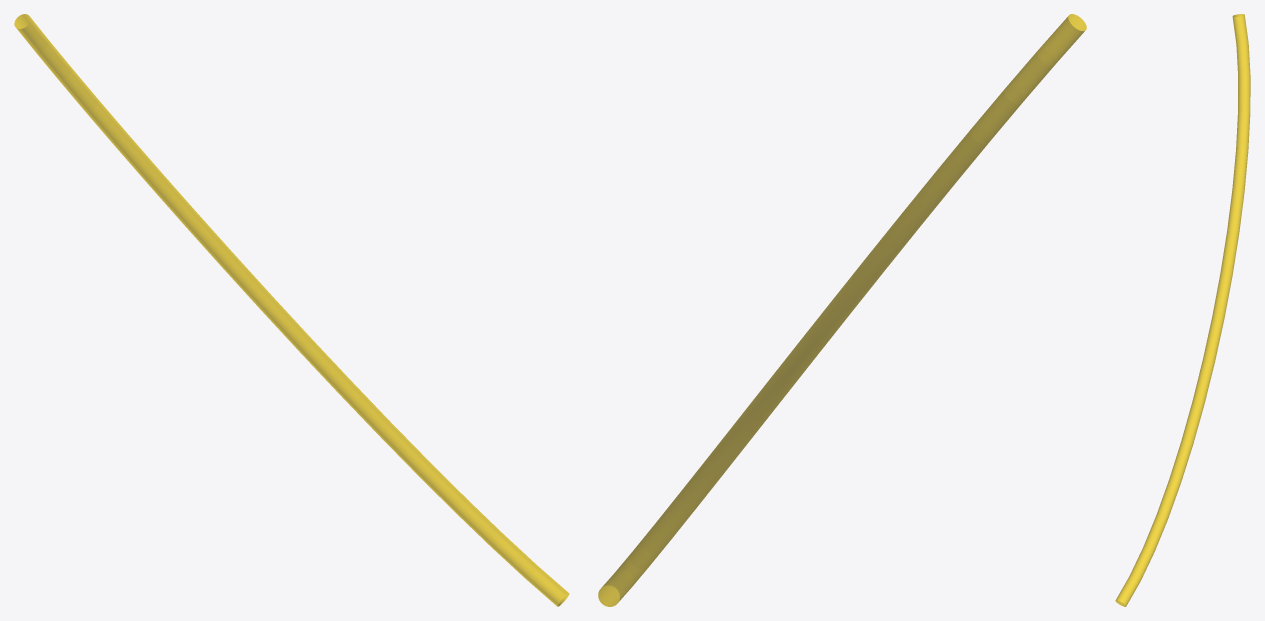
Rendered from Event_402970704_track_71.fbx.
The picture shows the model from 3 angles, left to right: view 1: azimuth 30°, elevation 25°; view 2: azimuth 150°, elevation 25°; view 3: azimuth 270°, elevation 25°; orthographic projection. The views are drawn at different scales.
Parts seen in each view (by area): view 1: Model; view 2: Model; view 3: Model.
Boxes of the visible parts, box(x1,y1,x2,y2) form: Model: box(14, 14, 569, 606); Model: box(598, 14, 1086, 606); Model: box(1115, 14, 1250, 606).
Size of the model in its own units: 1.2 by 1.57 by 0.4349.
